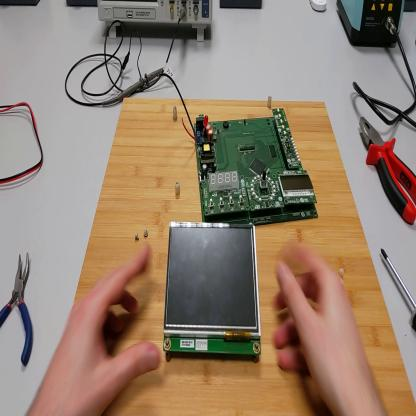hand: (39, 247, 160, 415), (274, 243, 373, 403)
low voltage board: (162, 72, 321, 223)
oscilloscope: (99, 1, 214, 43)
oscilloscope probe tip: (99, 67, 164, 108)
pliers: (361, 113, 416, 224), (1, 250, 35, 369)
screwdriver-: (382, 247, 416, 331)
socket: (2, 1, 40, 7), (403, 2, 416, 14), (68, 3, 96, 7)
welder station: (337, 2, 404, 52)
working area: (73, 98, 416, 415)
